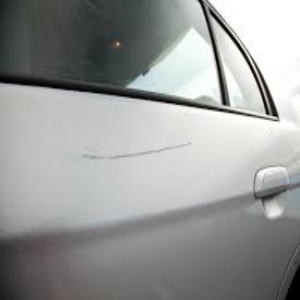rear_windshield_glass: (72, 17, 222, 102)
